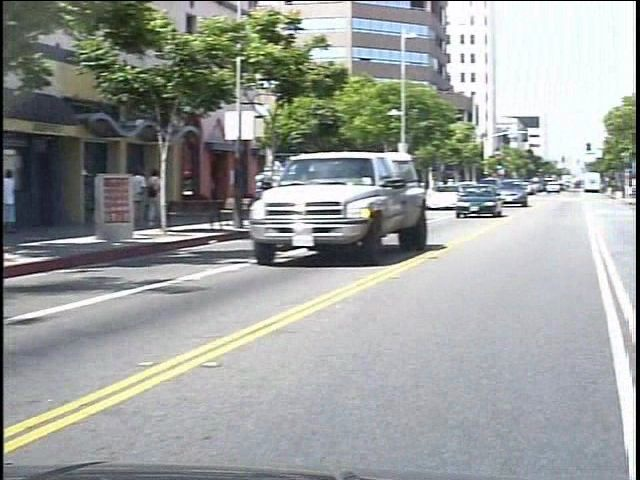person: (141, 166, 162, 230), (156, 167, 174, 231)
